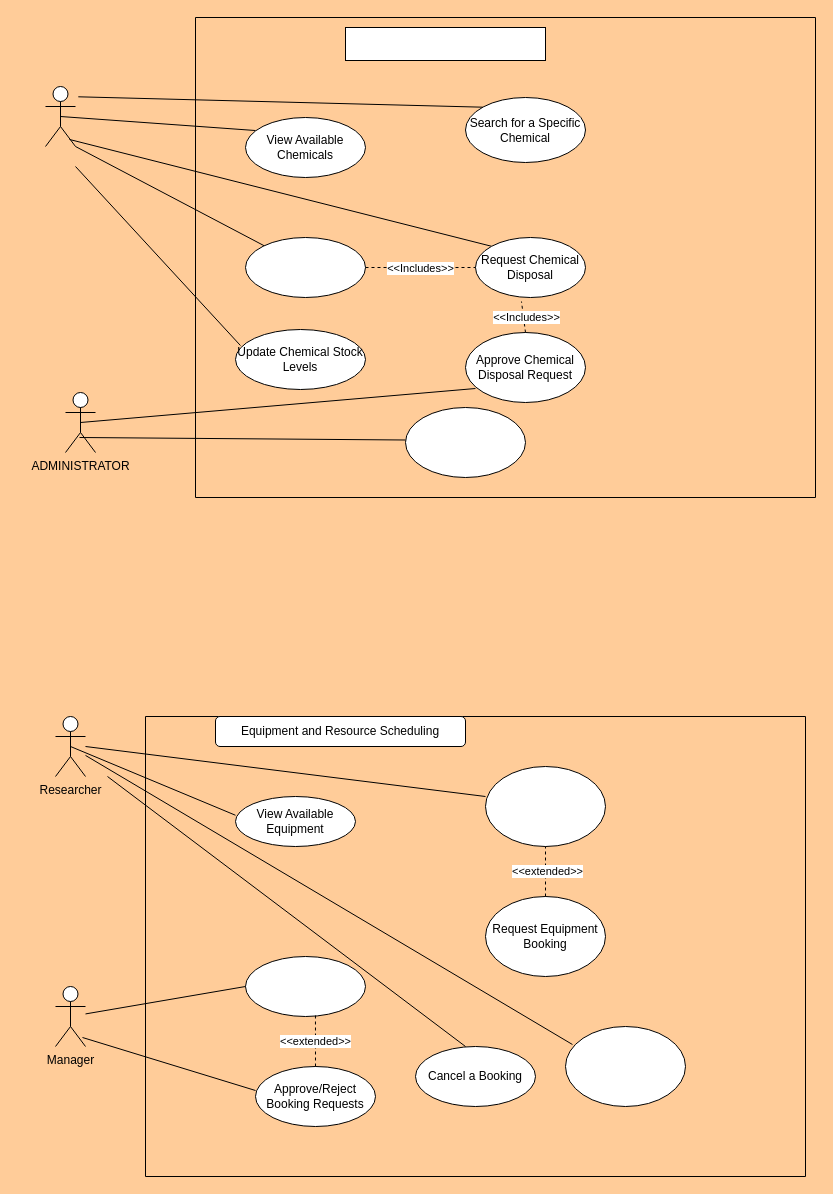
Some shapes in this 833 by 1194 pixel diagram are drawn without their labels. The shapes that lost their labels are listed below. From the top down, each one's box as (x1, y1, x2, y2) in pixels, then its label:
(344, 26, 546, 60): Inventory Management Subsystem
(44, 86, 76, 146): LAB MANAGER
(244, 236, 366, 298): Track Expiry Dates
(404, 406, 526, 478): Receive Low Stock Alert
(484, 766, 606, 846): Check Equipment Schedule
(244, 956, 366, 1016): Flag Equipment Issues
(564, 1026, 686, 1106): Receive Booking Reminder
